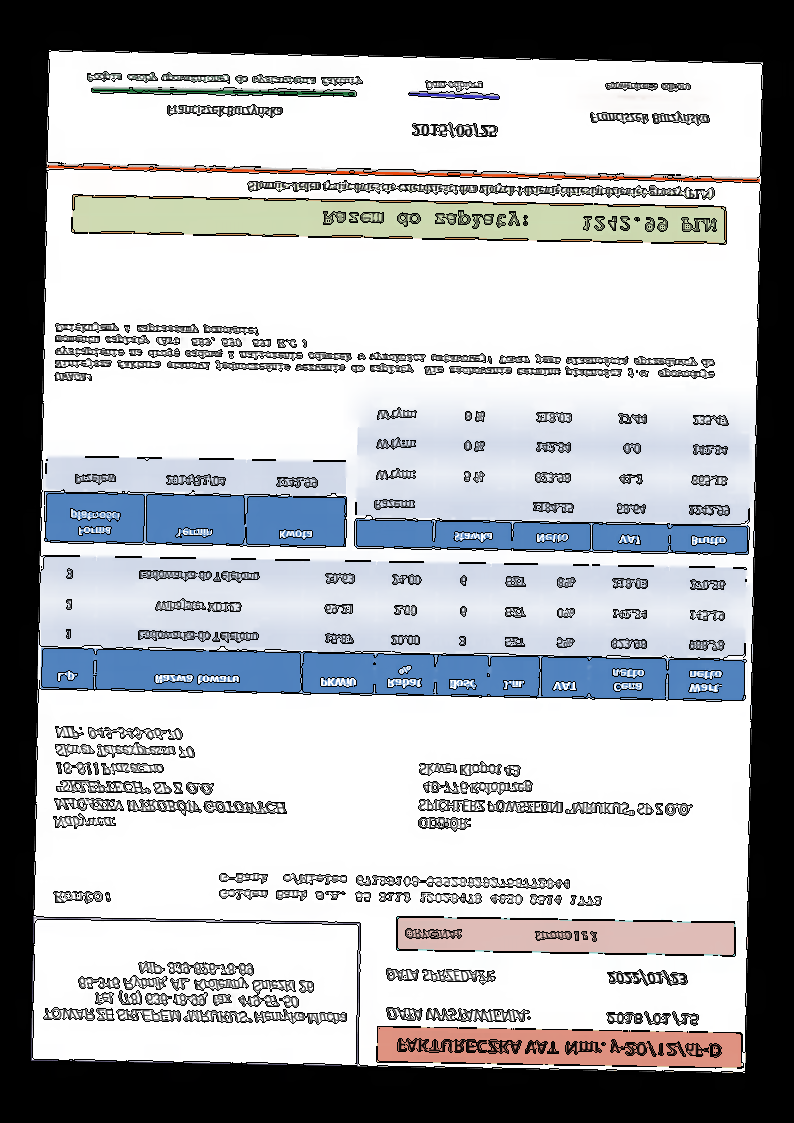Table: (39, 554, 747, 702), (354, 396, 753, 556), (44, 454, 347, 549)
TextBox: (52, 321, 717, 395), (51, 724, 290, 834), (41, 957, 350, 1029), (417, 760, 693, 838), (218, 869, 604, 909), (320, 206, 717, 236), (247, 179, 715, 202), (394, 1034, 722, 1062), (85, 70, 363, 89), (402, 925, 599, 945), (384, 1006, 532, 1026), (383, 967, 498, 986), (164, 102, 283, 120), (587, 109, 710, 126), (605, 1008, 699, 1027), (410, 122, 498, 140), (605, 970, 690, 987), (603, 80, 692, 94), (51, 888, 111, 907), (423, 78, 485, 93)
